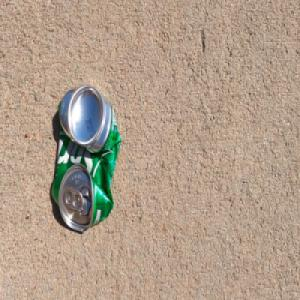SodaCan: (49, 80, 121, 233)
